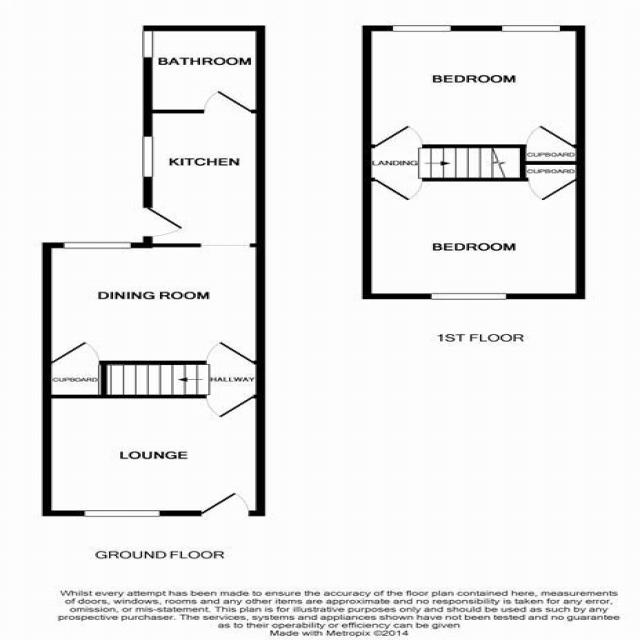DOOR: (363, 123, 428, 150), (364, 178, 428, 204), (202, 338, 263, 365), (203, 394, 261, 421), (196, 490, 253, 516), (144, 204, 186, 238), (201, 87, 255, 113)
ROOM: (362, 25, 585, 150), (362, 177, 586, 299), (42, 394, 265, 516)
WINDOW: (428, 290, 510, 302), (140, 133, 158, 179), (82, 508, 162, 518), (62, 240, 135, 250), (388, 23, 453, 33), (501, 23, 563, 33), (140, 29, 155, 59)
